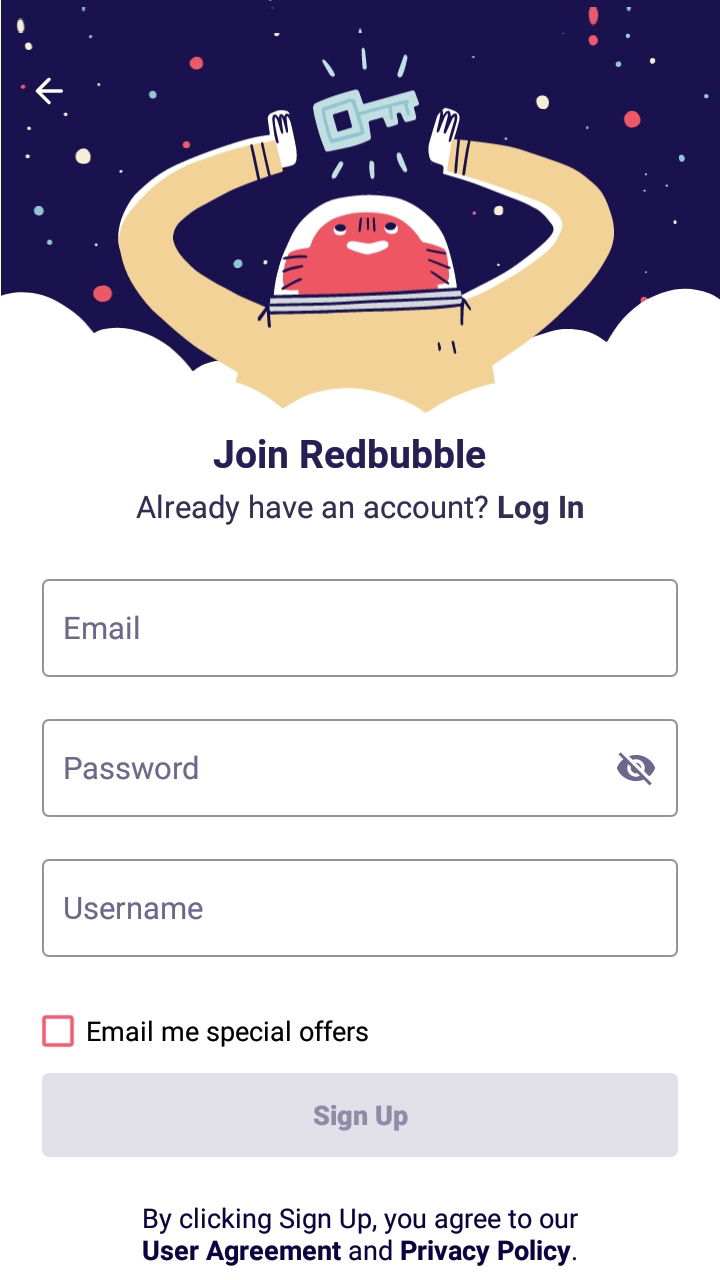CheckedTextView: (43, 1015, 369, 1047)
EditText: (43, 859, 679, 957), (43, 720, 679, 818), (43, 580, 679, 678)
Icon: (616, 753, 655, 786), (36, 78, 64, 106)
Image: (1, 1, 720, 414)
Text: (143, 1206, 579, 1267), (137, 494, 584, 526), (213, 439, 486, 469), (89, 1020, 369, 1047), (66, 755, 199, 780), (66, 897, 204, 920), (66, 616, 140, 641)
TextButton: (43, 1073, 678, 1157)
